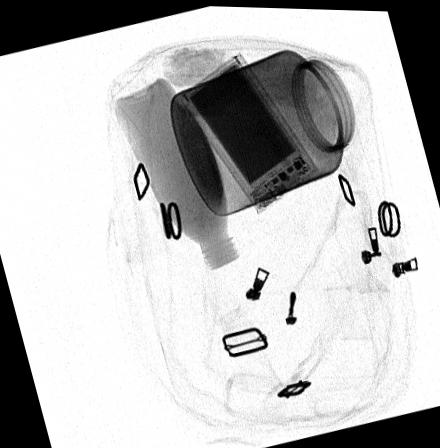Powerbank: (174, 50, 319, 211)
